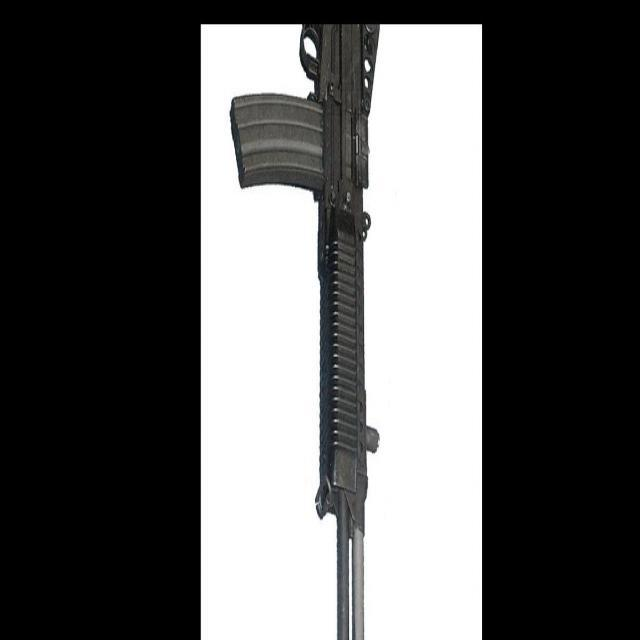weapon: (229, 22, 380, 640)
